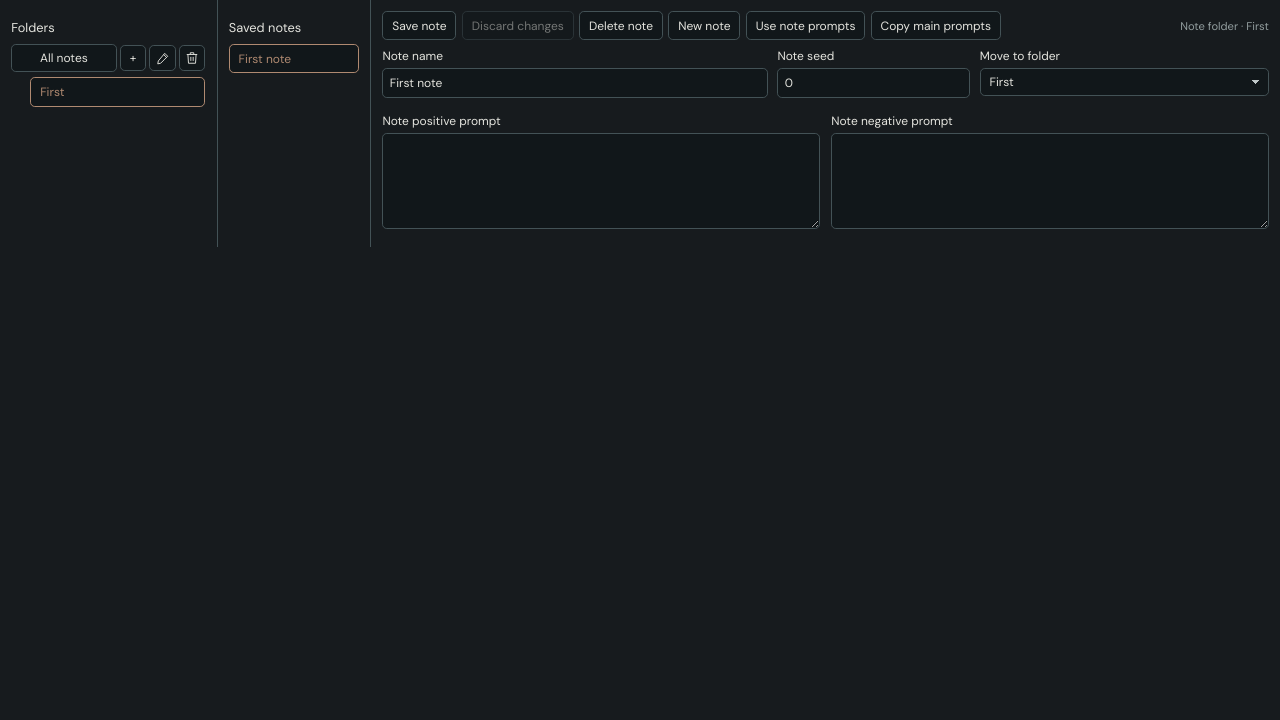
Scenario: keeps folders and folder-specific notes in separate panes with New beside Delete and Seed beside Name
The image size is (1280, 720).
Earlier steps of the test are not shown.
Step 1. Click the button "All notes" → (64, 58), box [11,44,117,72]
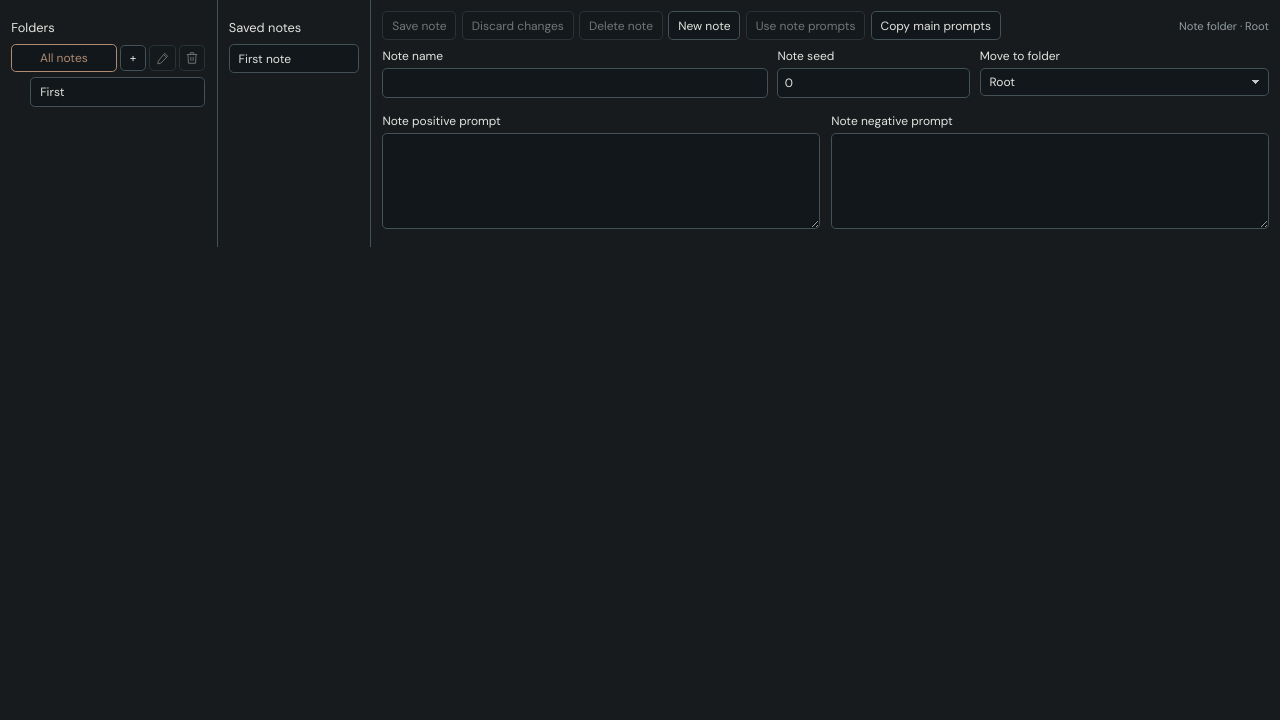
Step 2. Click the button named "New folder" → (133, 58), box [120,45,146,71]
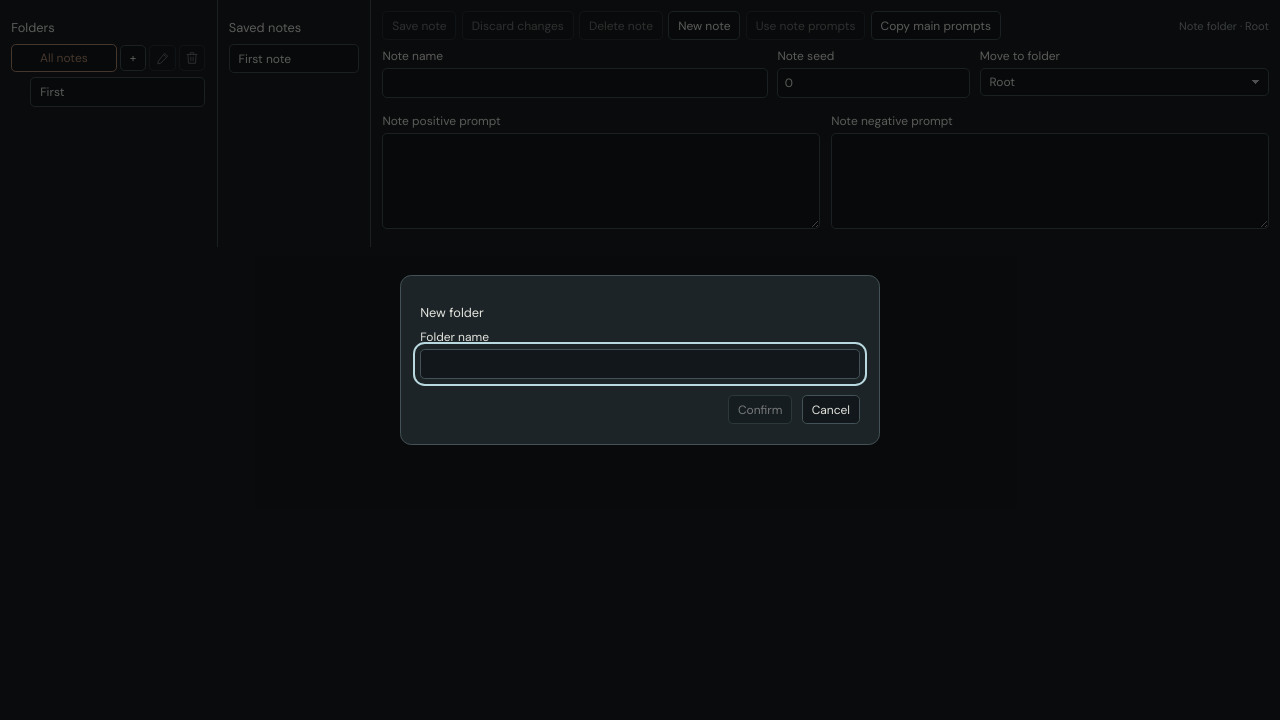
Step 3. Type "Second" into the field labelled "Folder name" → (640, 364), box [420,348,860,379]
Step 4. Click the button "Confirm" → (760, 410), box [728,395,792,424]
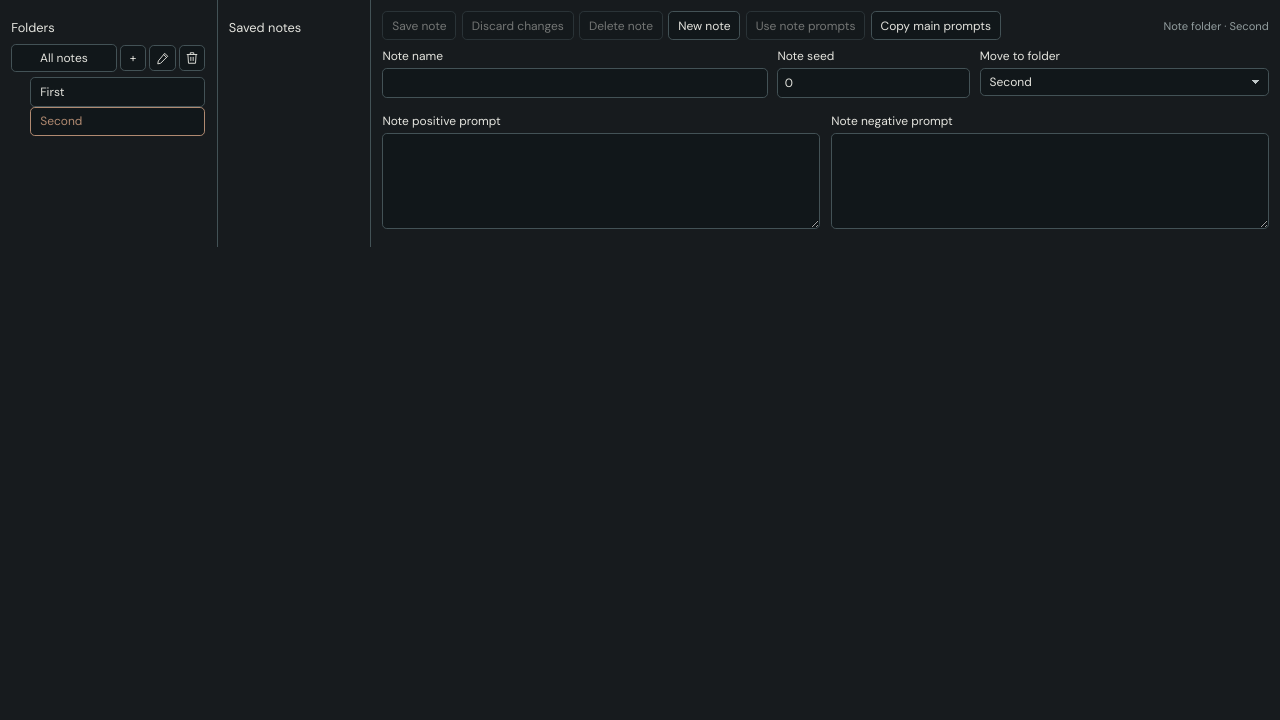
Step 5. Type "Second note" into the field labelled "Note name" → (575, 83), box [382,68,768,98]
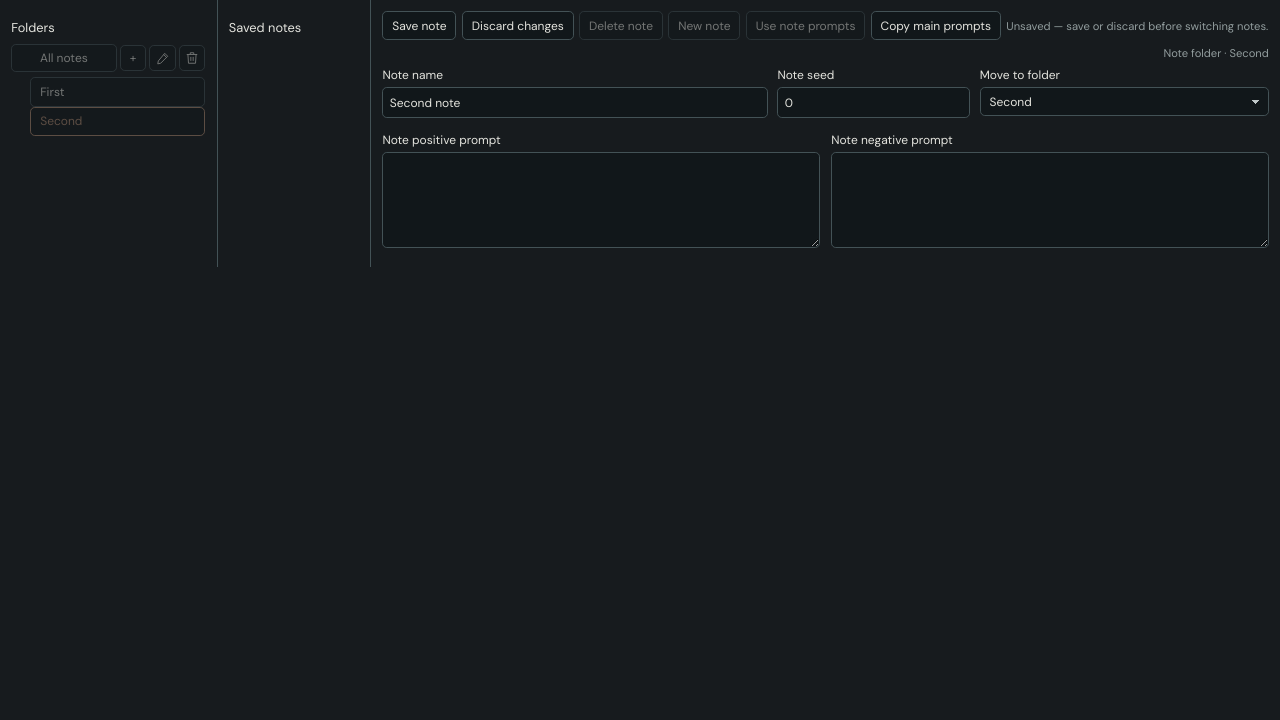
Step 6. Click the button "Save note" → (419, 26), box [382,11,456,40]
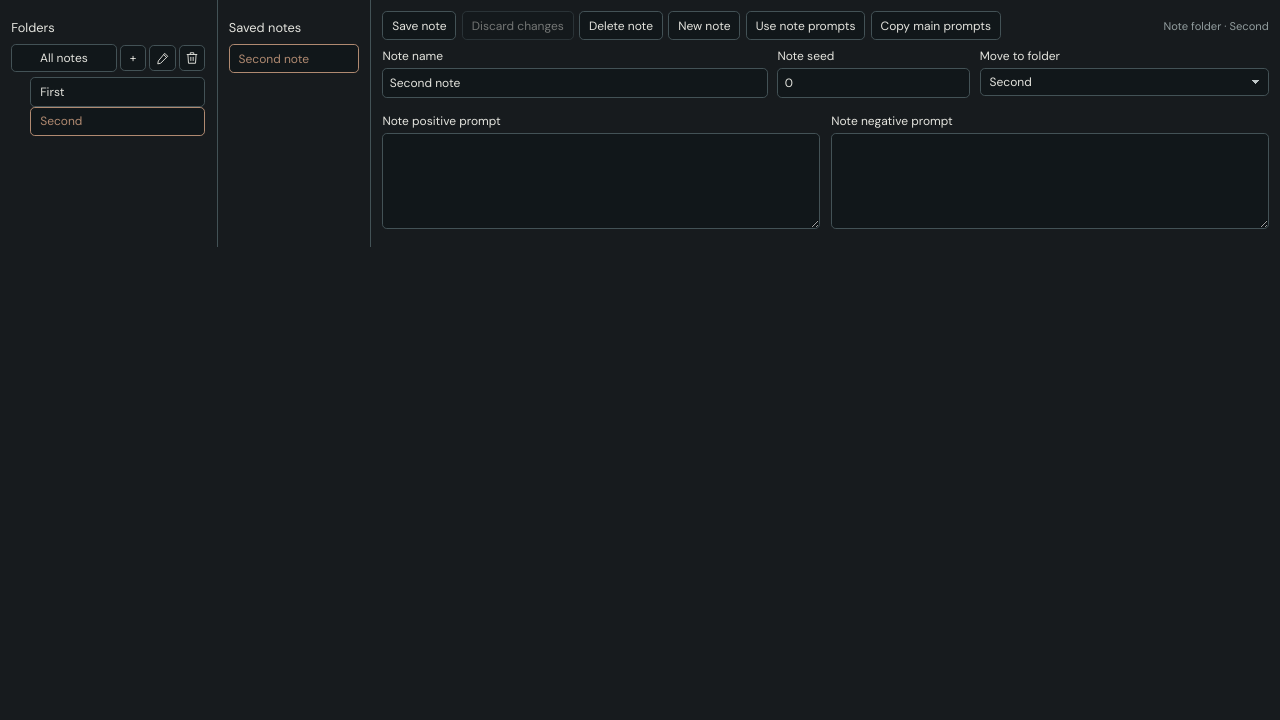
Expected: the button "First note" does not show "First note"
Expected: the navigation bar shows "Second note", [229,44,359,73]
Step 7. Click the button "First" → (118, 92), box [30,77,205,107]
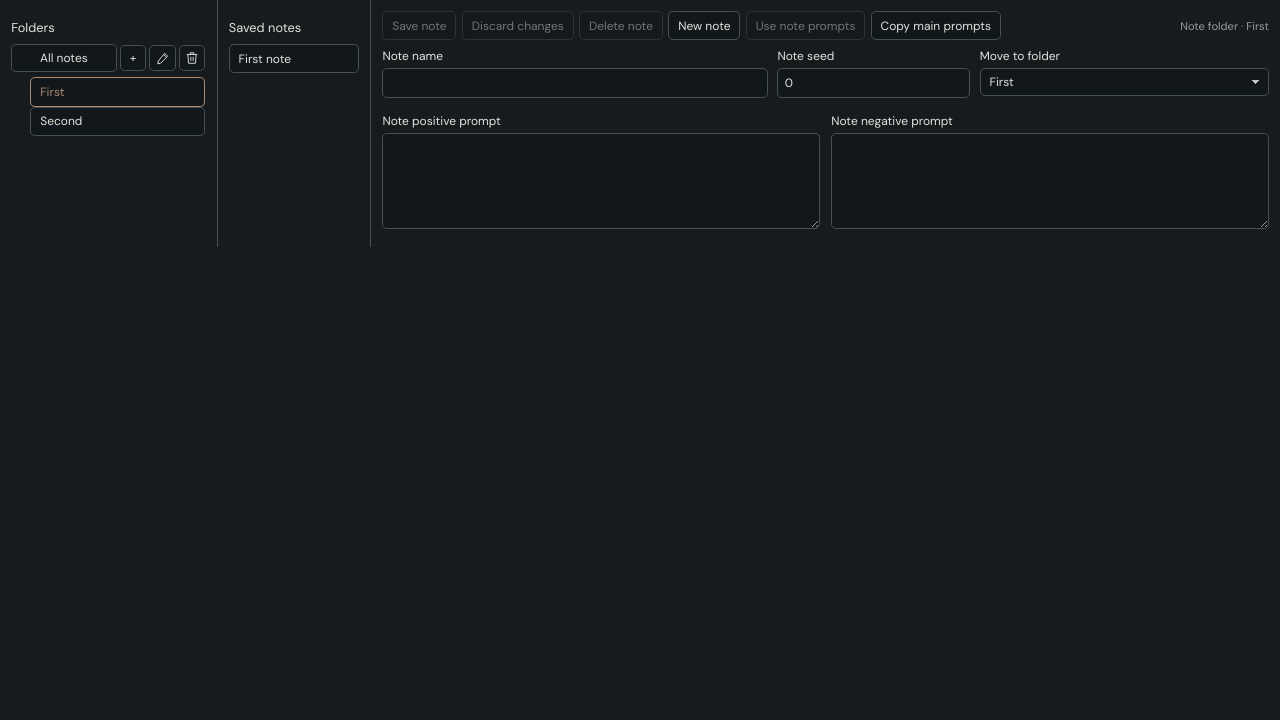
Expected: the navigation bar shows "First note", [229,44,359,73]
Expected: the button "Second note" no longer shows "Second note"
Expected: the text "Note folder · First" is shown, [1180,19,1269,33]
